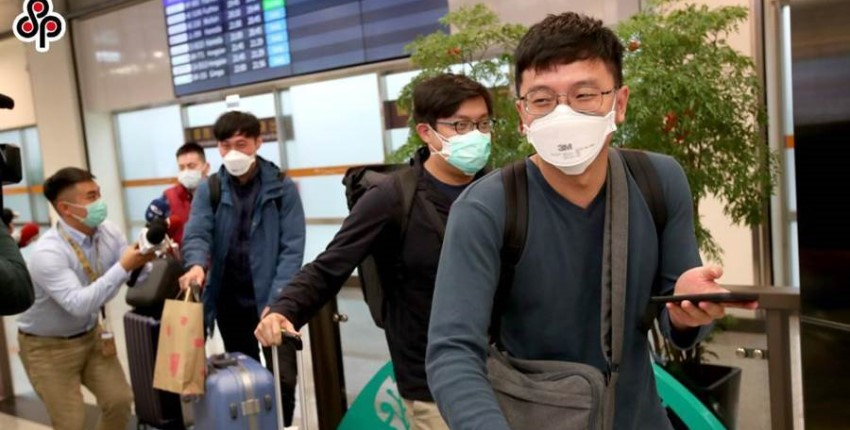Mask: (515, 64, 619, 181), (427, 100, 495, 185), (56, 179, 108, 233), (217, 135, 262, 180), (175, 148, 209, 193)
